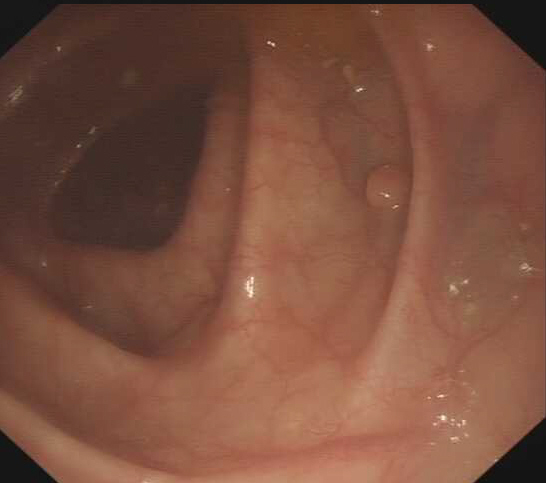adenoma: (361, 161, 410, 211)
